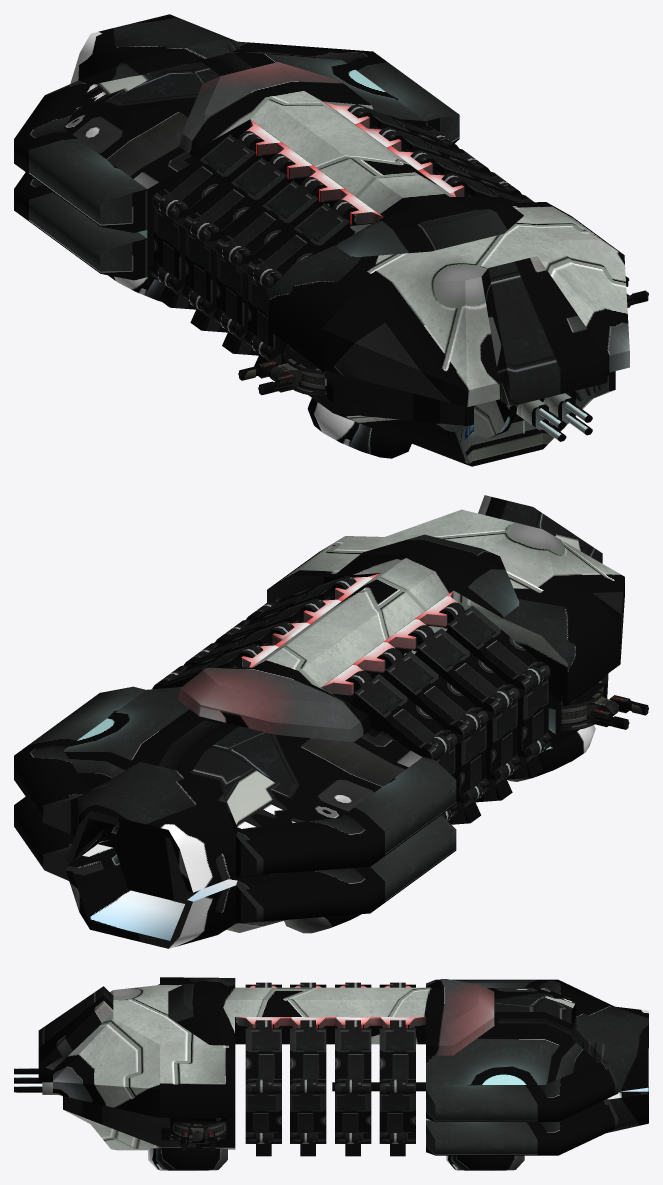
Rendered from largeTransport.obj.
The picture shows the model from 3 angles, top to bottom: view 1: azimuth 30°, elevation 25°; view 2: azimuth 150°, elevation 25°; view 3: azimuth 270°, elevation 25°; orthographic projection. The views are drawn at different scales.
Visible parts, largest first — view 1: cube1_sep26; view 2: cube1_sep26; view 3: cube1_sep26.
Boxes of the visible parts, x1=… form: cube1_sep26: x1=14, y1=14, x2=648, y2=466; cube1_sep26: x1=14, y1=495, x2=648, y2=948; cube1_sep26: x1=14, y1=977, x2=648, y2=1170.
Bounding box in the file's own units: 13.59 × 7.2 × 26.94.
